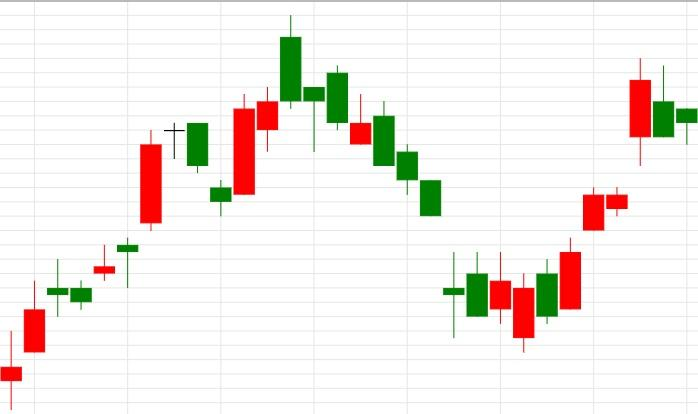evening_star_fall: (0, 122, 209, 410)
